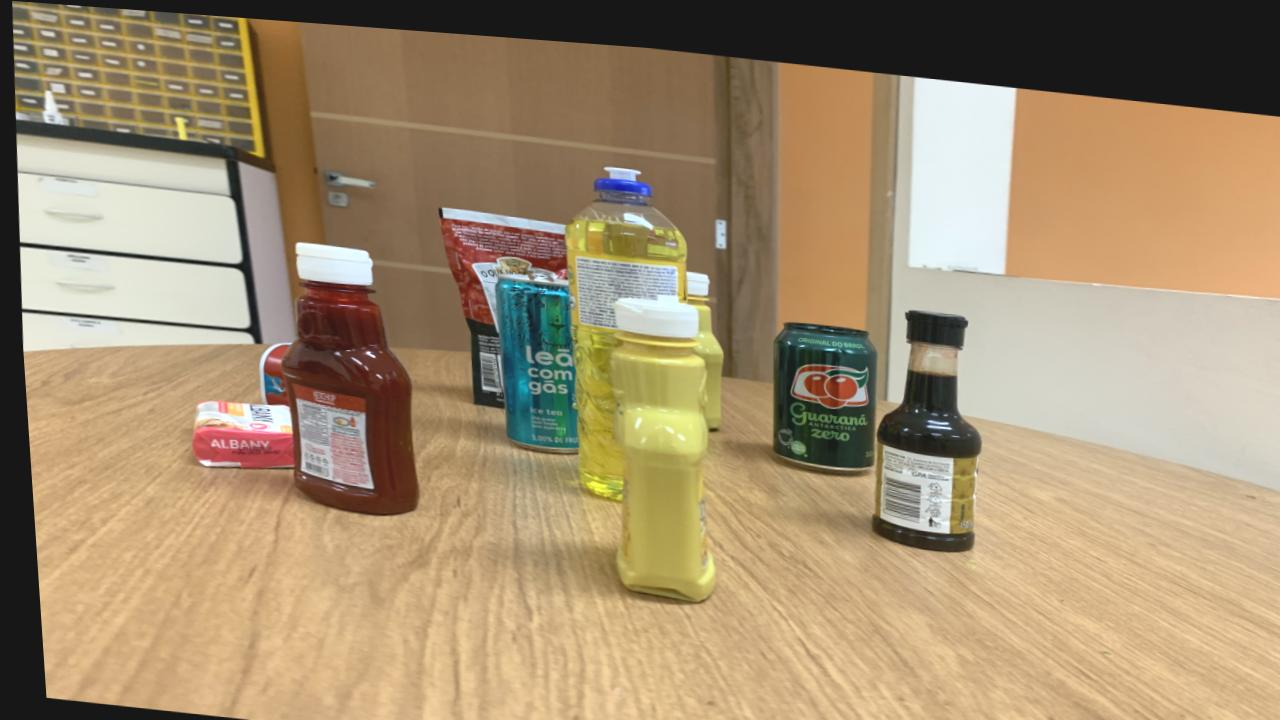Detergent-Cleanup_Items: (563, 158, 684, 490)
English_Sauce-Pantry_Items: (866, 327, 977, 537), (905, 298, 962, 328)
Guarana_Can-Drinks: (767, 310, 873, 461)
Ketchup-Pantry_Items: (276, 239, 413, 509)
Mustard-Pantry_Items: (606, 285, 707, 591)
Soap-Cleanup_Items: (187, 398, 288, 466)
Tea-Drinks: (492, 250, 572, 445)
Tomato_Sauce-Pantry_Items: (436, 201, 564, 401)
Tuna_Can-Pantry_Items: (253, 338, 286, 402)
